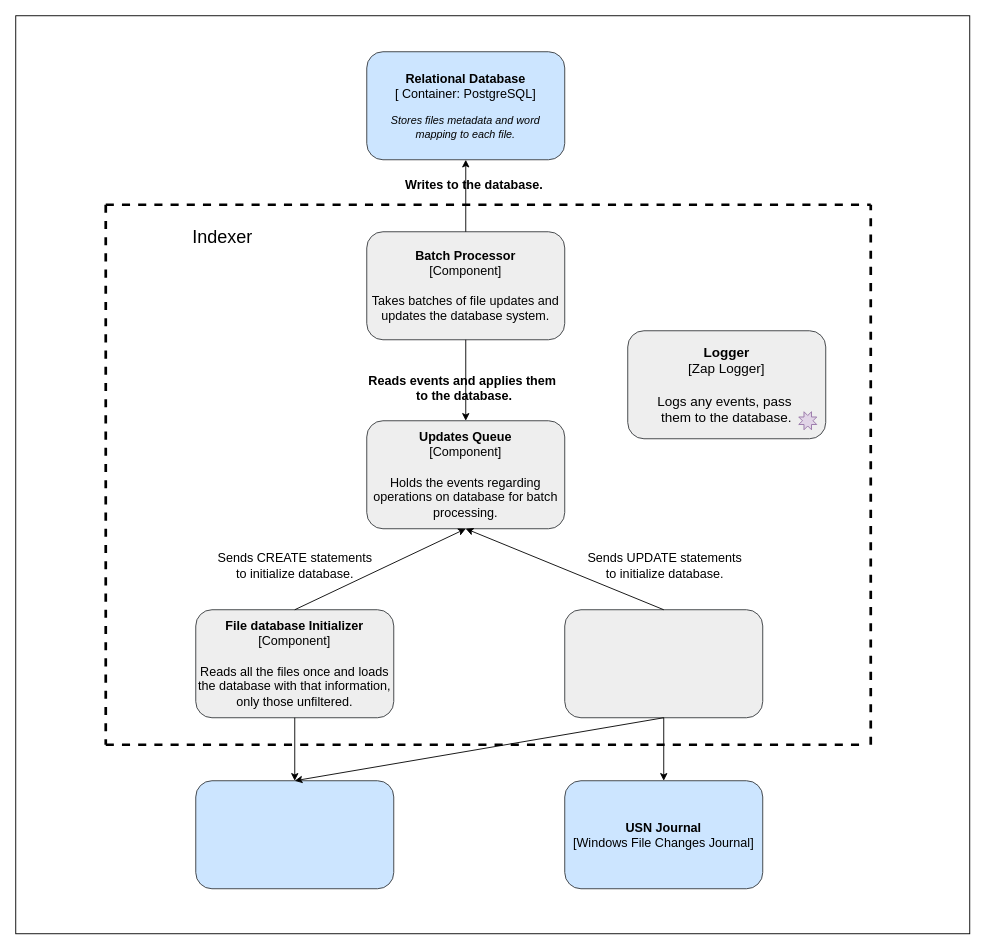
Image size: 986x950. Some labels were removed from this diagram. The shapes that lost their labels are listed below. From the top down, each one's centre as x and y in pixels, then its label:
At (x=663, y=663): "File Updates Reader [Component] Reads any updates that occurred to the files.".
At (x=294, y=834): "Local File System [ OS File System]".
